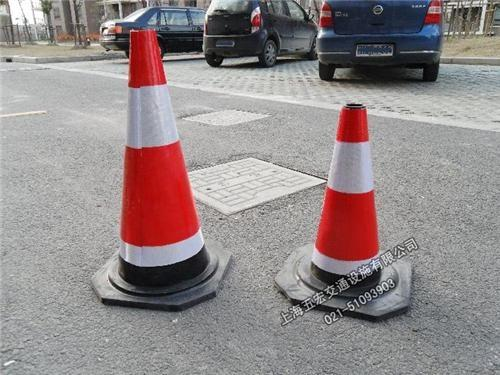cone_barrel: (98, 27, 221, 299), (299, 105, 389, 286)
